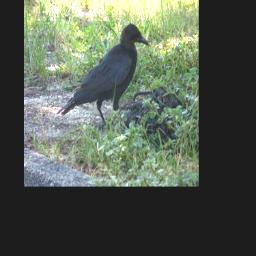Crow: (56, 23, 149, 131)
